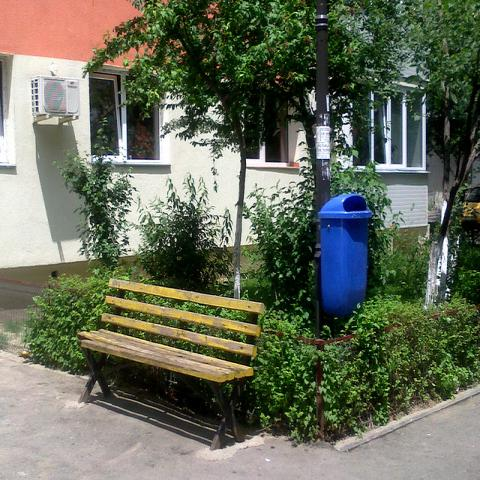car: (461, 183, 479, 224)
